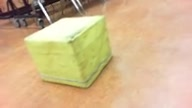cube: (24, 15, 113, 88)
